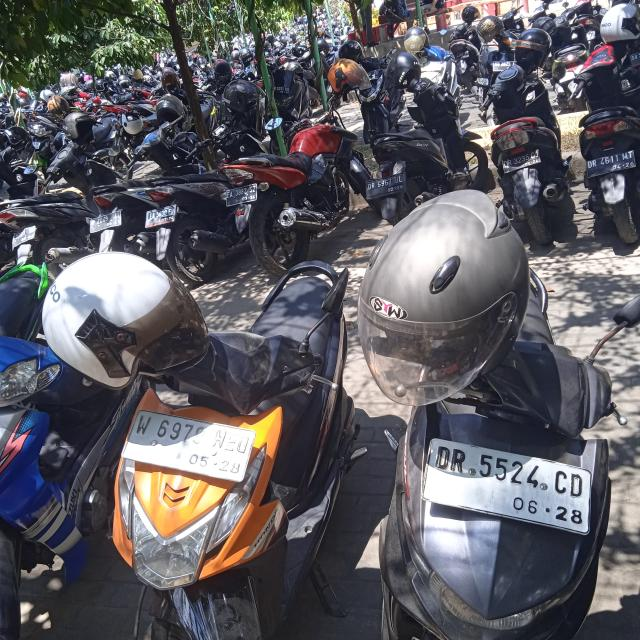plate: (424, 439, 592, 538), (120, 412, 258, 480), (586, 148, 636, 179), (501, 149, 542, 174)
